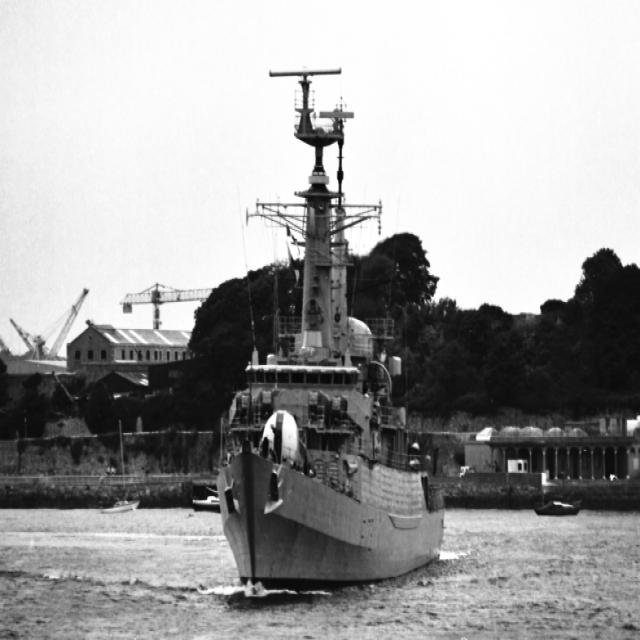Fragata: (216, 38, 450, 596)
